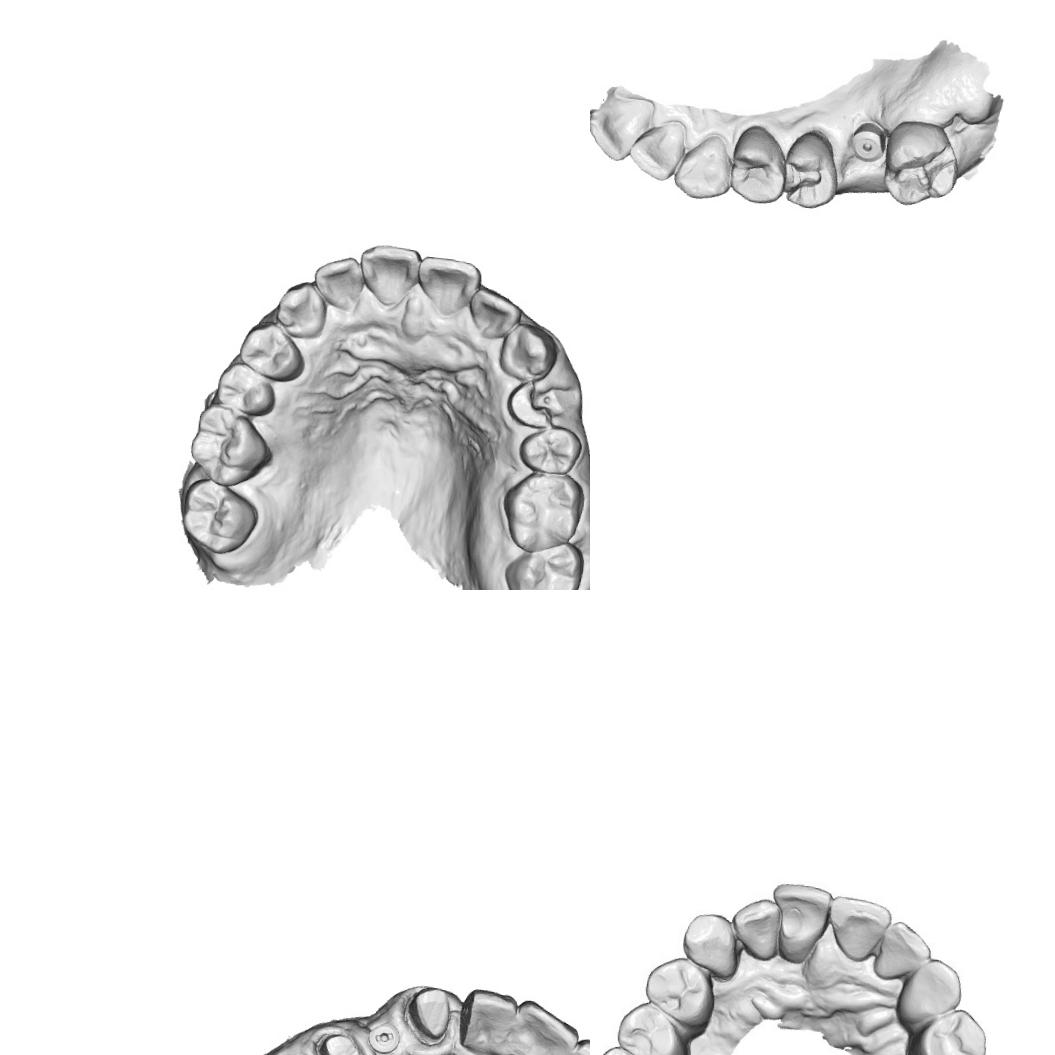canine: (890, 955, 966, 1028), (676, 907, 745, 982), (671, 132, 734, 202), (496, 320, 562, 386), (272, 277, 332, 340)
crown: (404, 984, 458, 1045), (316, 1030, 372, 1055)
implant: (846, 121, 888, 164)
implant_minus: (363, 1018, 404, 1055)
incisor: (762, 878, 835, 969), (823, 894, 894, 965), (354, 240, 422, 310), (868, 916, 933, 988), (507, 996, 585, 1055), (590, 90, 651, 165), (457, 986, 521, 1055), (414, 254, 483, 314), (728, 895, 786, 963), (628, 117, 688, 182), (310, 251, 368, 313), (465, 284, 525, 342)
inlay: (778, 156, 828, 204)
molar: (497, 465, 588, 558), (879, 116, 965, 214), (186, 402, 279, 492), (176, 476, 265, 558), (499, 534, 588, 590)
premolar: (639, 952, 720, 1032), (726, 122, 790, 210), (234, 320, 310, 384), (610, 999, 693, 1055), (910, 1002, 994, 1055), (212, 360, 280, 418), (516, 423, 584, 478)
